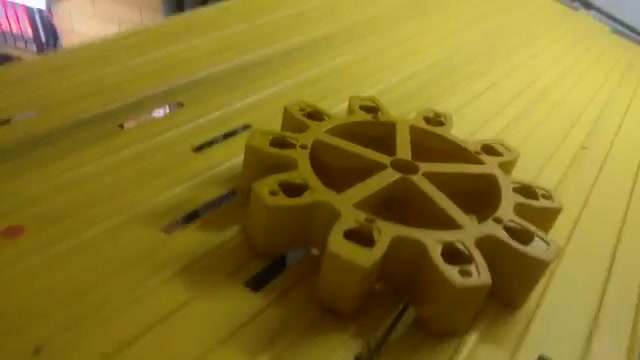gear: (229, 86, 564, 354)
